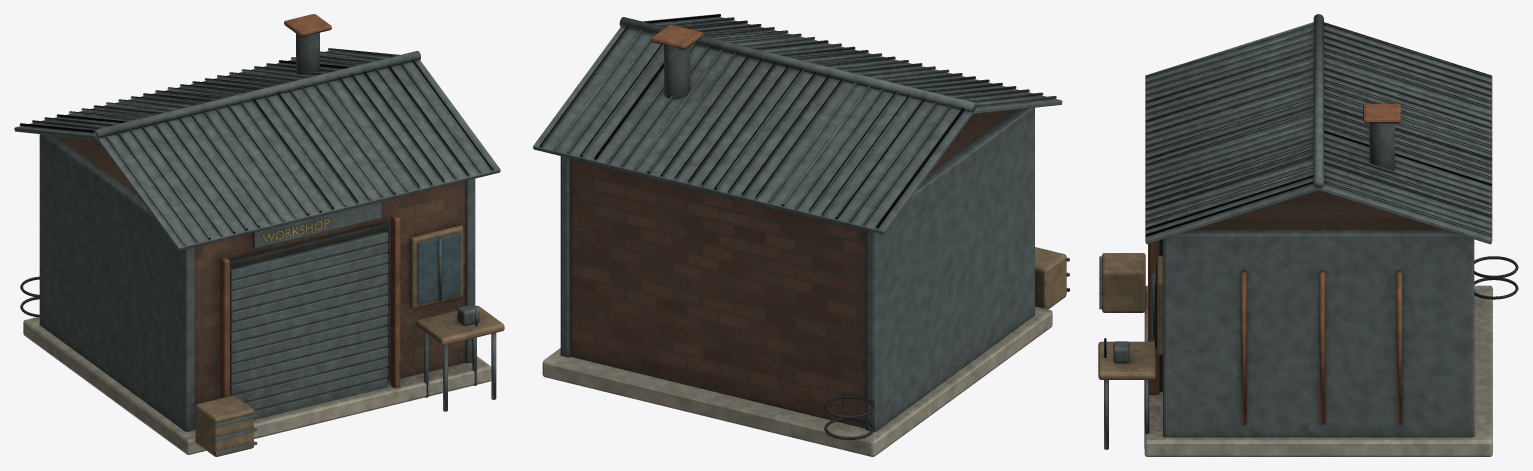
File: Workshop.fbx
The picture shows the model from 3 angles, left to right: view 1: azimuth 30°, elevation 25°; view 2: azimuth 150°, elevation 25°; view 3: azimuth 270°, elevation 25°; orthographic projection. The views are drawn at different scales.
Visible parts, largest first — view 1: Workshop; view 2: Workshop; view 3: Workshop.
Part boxes in pixels (x1,y1,x2,y2): Workshop: [14, 14, 504, 456]; Workshop: [533, 14, 1069, 456]; Workshop: [1098, 14, 1518, 456].
Bounding box in the file's own units: 3.4 × 2.97 × 3.64.
Materials: 1 (1 with a texture image).
